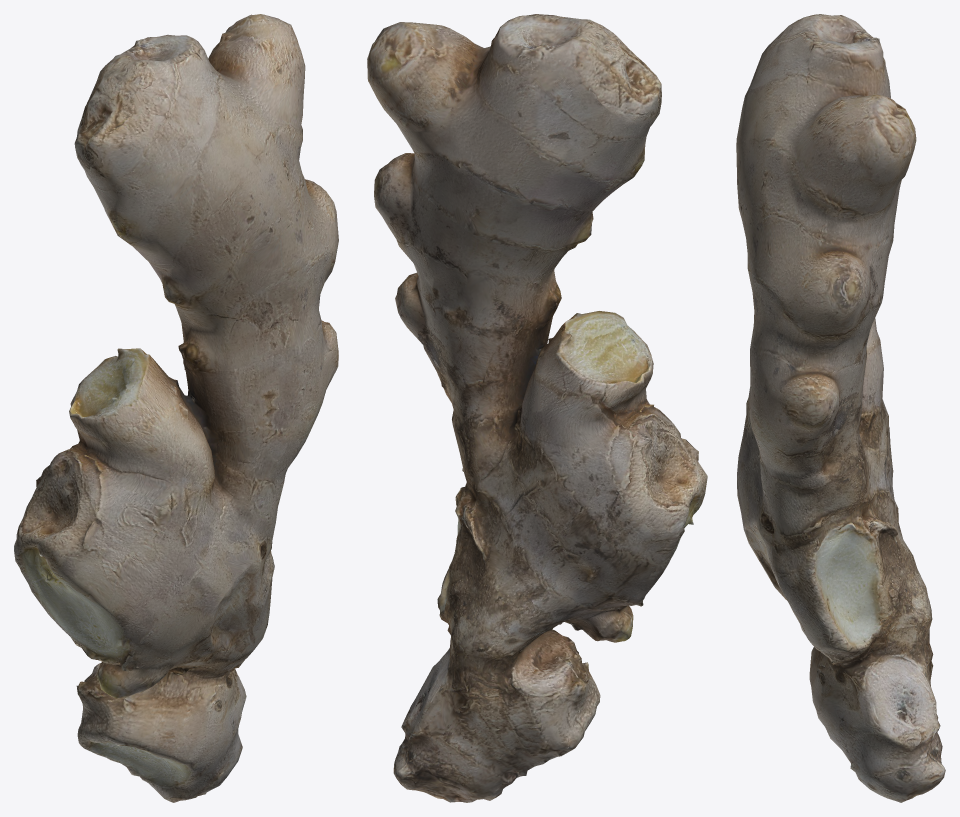
Rendered from ginger.glb.
3 views of the same model, side by side, from view 1: azimuth 30°, elevation 25°; view 2: azimuth 150°, elevation 25°; view 3: azimuth 270°, elevation 25° (orthographic). The views are drawn at different scales.
Parts seen in each view (by area): view 1: food_ginger_01; view 2: food_ginger_01; view 3: food_ginger_01.
Boxes of the visible parts, box(x1,y1,x2,y2) form: food_ginger_01: box(14, 14, 338, 802); food_ginger_01: box(367, 14, 707, 802); food_ginger_01: box(736, 14, 945, 802).
Size of the model in its own units: 1.13 by 2.71 by 0.6941.
Materials: 1 (1 with a texture image).
